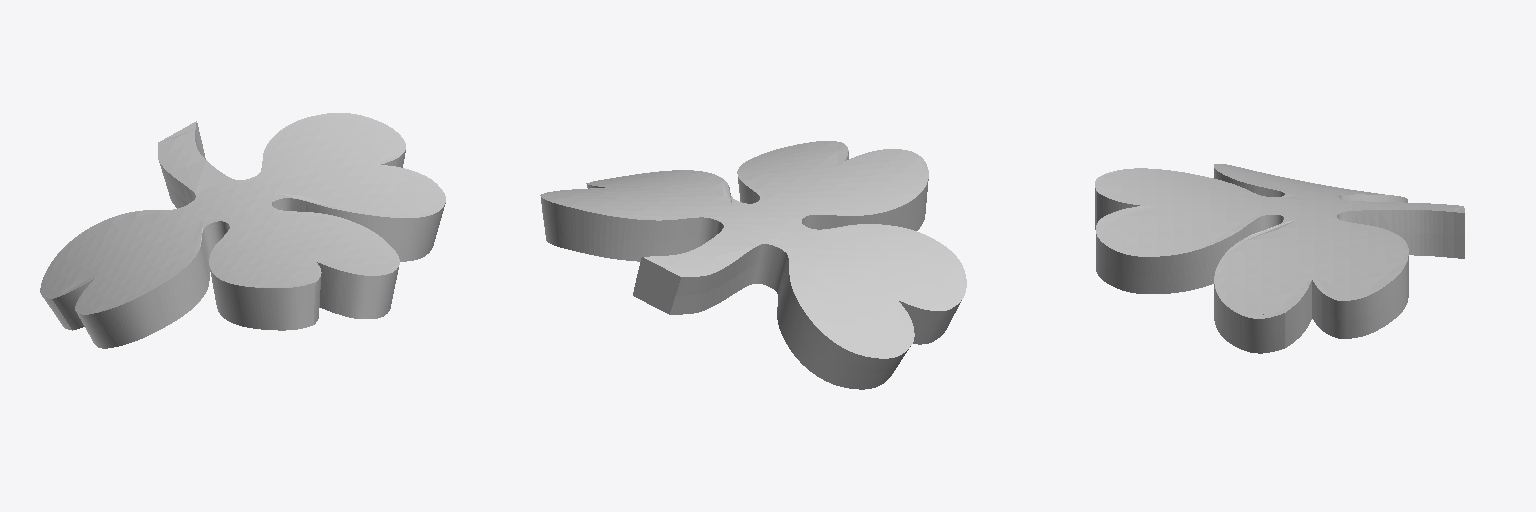
Rendered from shammy.obj.
3 views of the same model, side by side, from view 1: azimuth 30°, elevation 25°; view 2: azimuth 150°, elevation 25°; view 3: azimuth 270°, elevation 25° (orthographic).
Visible parts, largest first — view 1: Group__0; view 2: Group__0; view 3: Group__0.
Part boxes in pixels (x1,y1,x2,y2): Group__0: (40, 113, 445, 348); Group__0: (540, 141, 966, 389); Group__0: (1095, 164, 1464, 353).
Size of the model in its own units: 2000 by 657 by 1745.